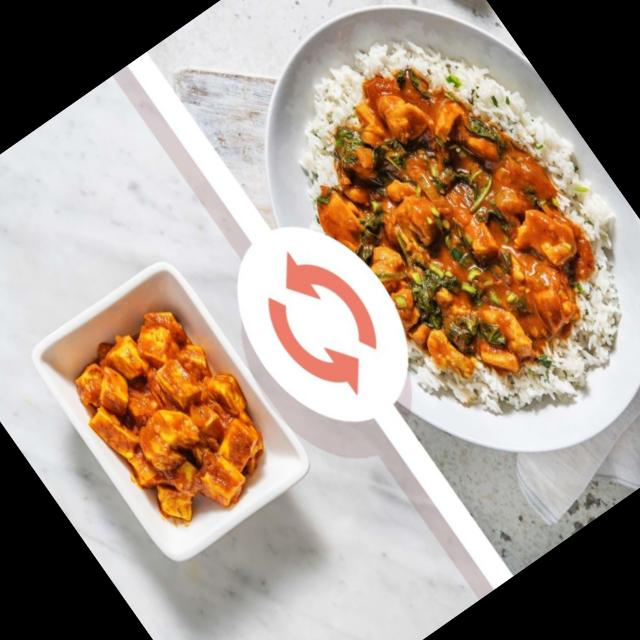rice: (465, 68, 500, 106)
